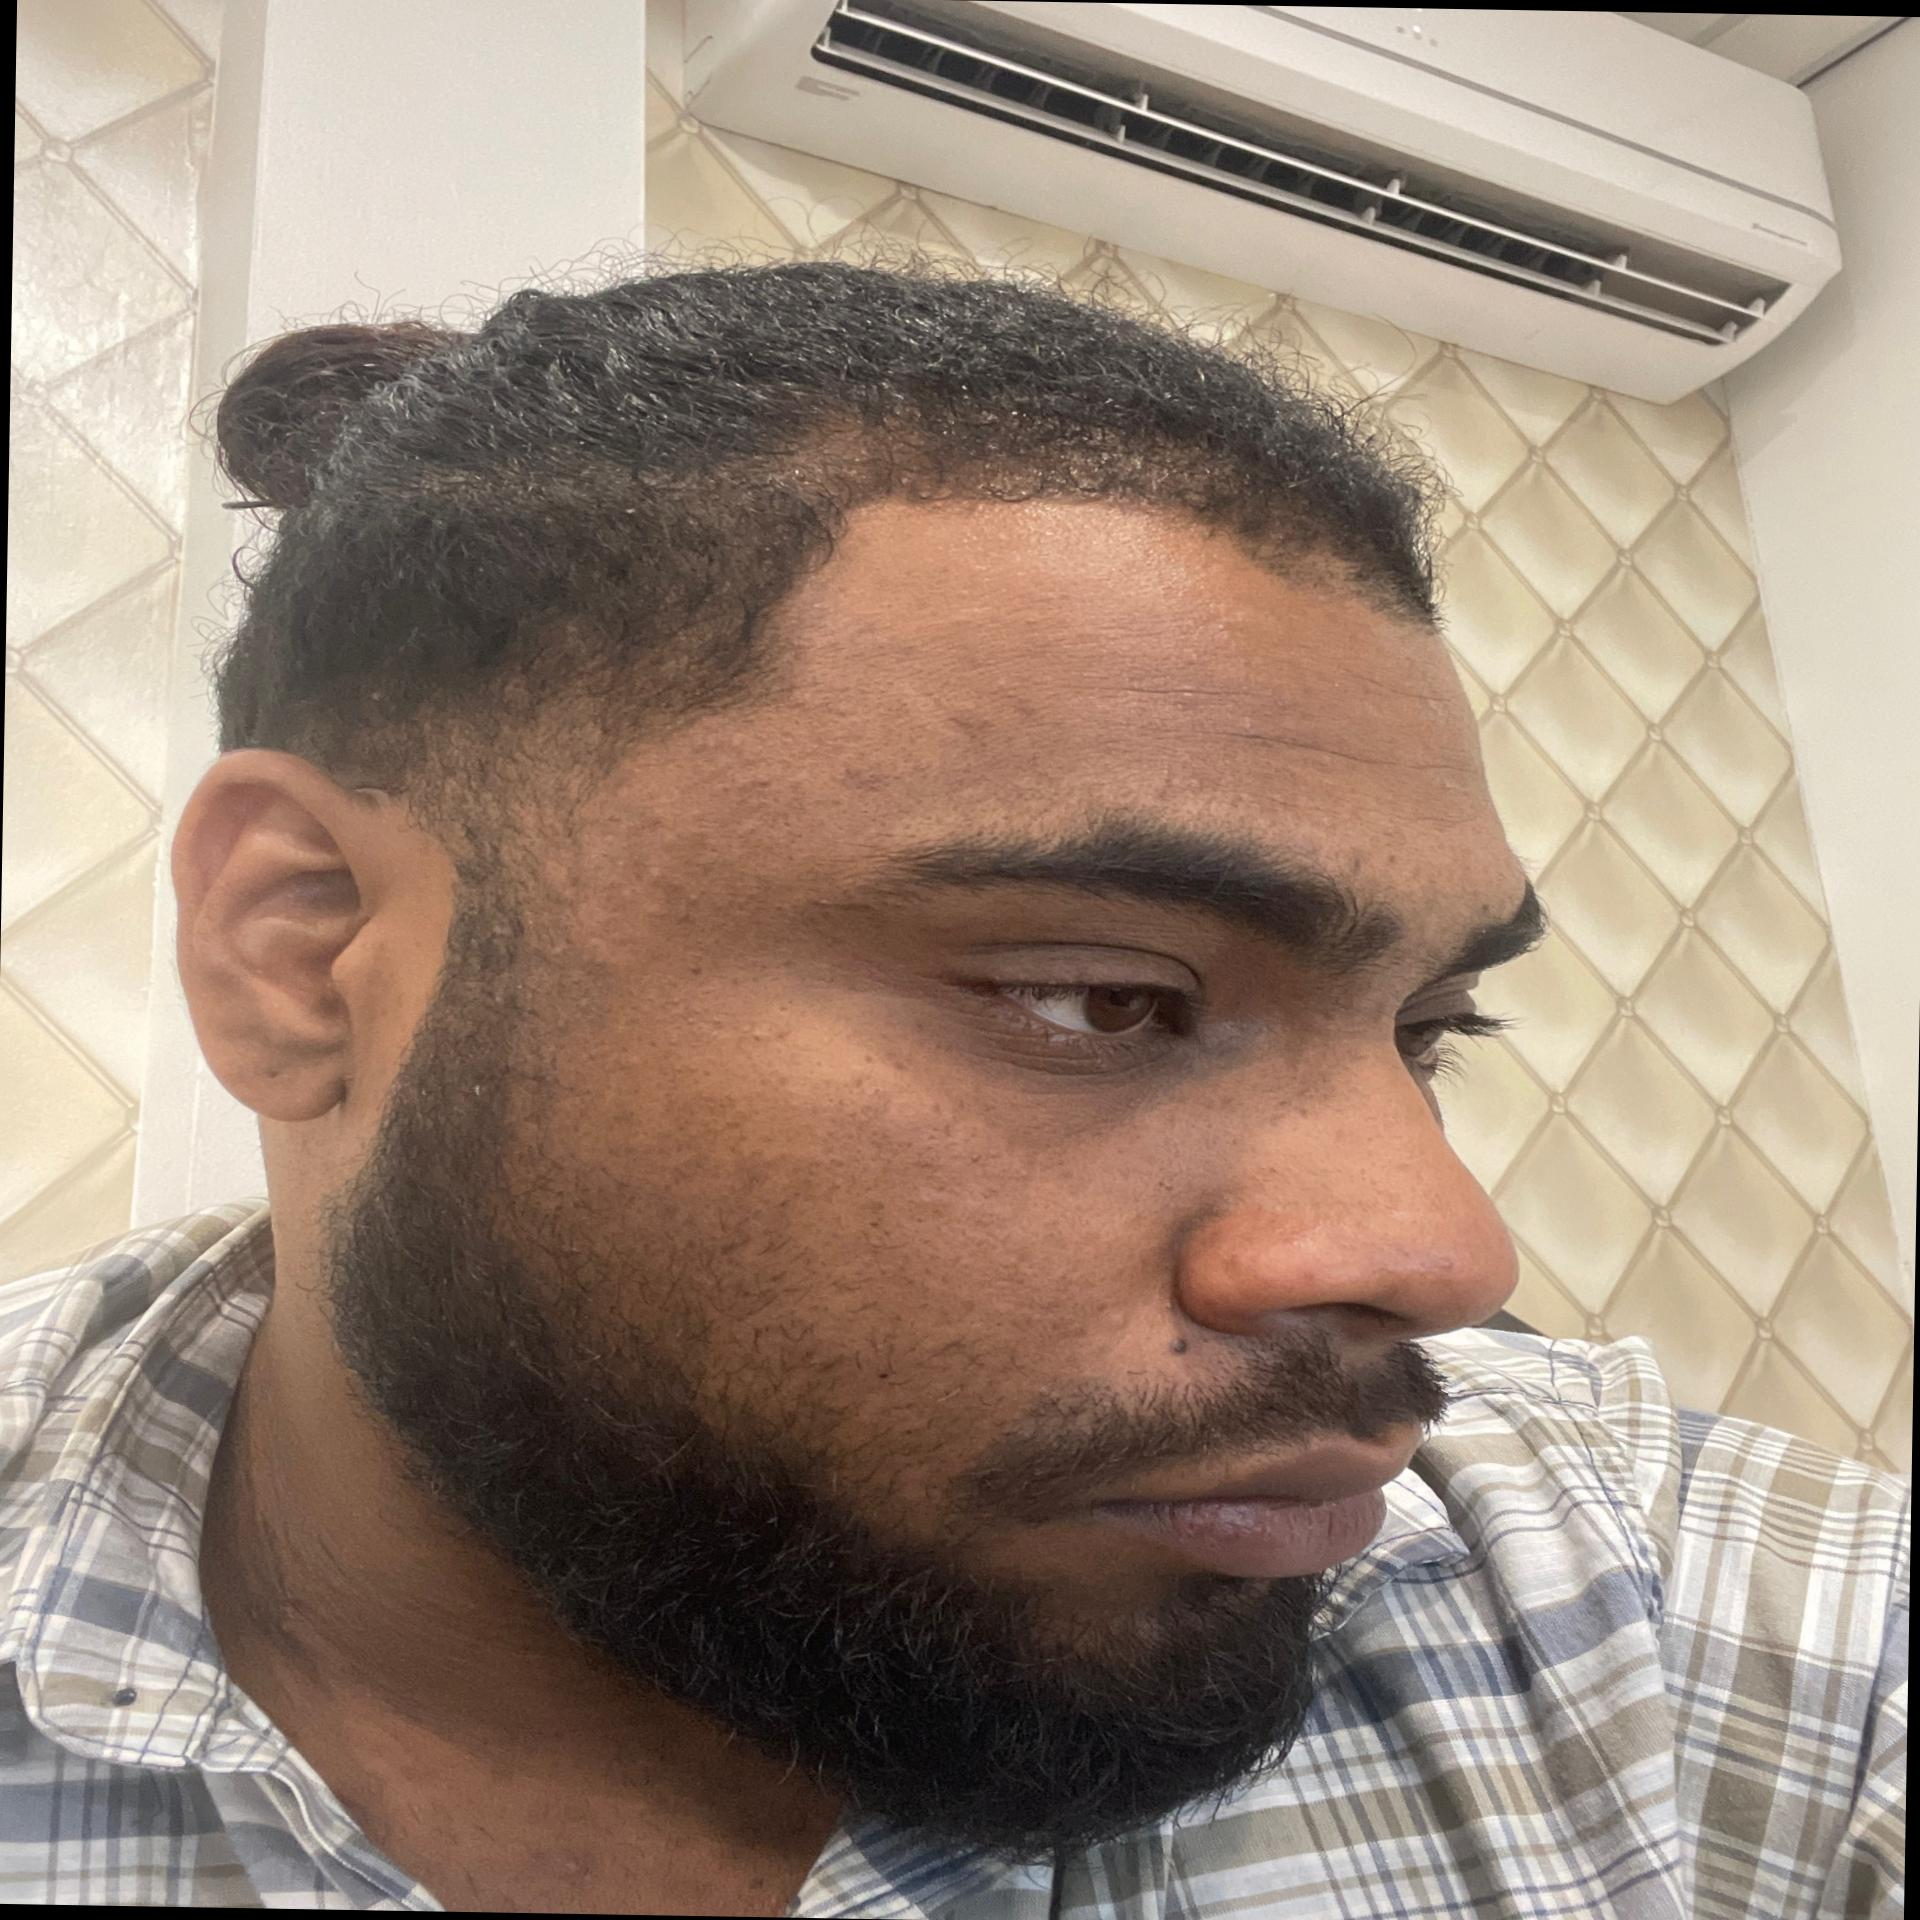Acne: (628, 814, 687, 923)
Blackhead: (835, 1081, 955, 1218)
Dark Circles: (893, 1009, 1215, 1141)
Wrinkles: (1173, 726, 1400, 761), (1322, 652, 1461, 707), (1025, 670, 1271, 700), (1410, 751, 1479, 775), (1405, 814, 1493, 832)
